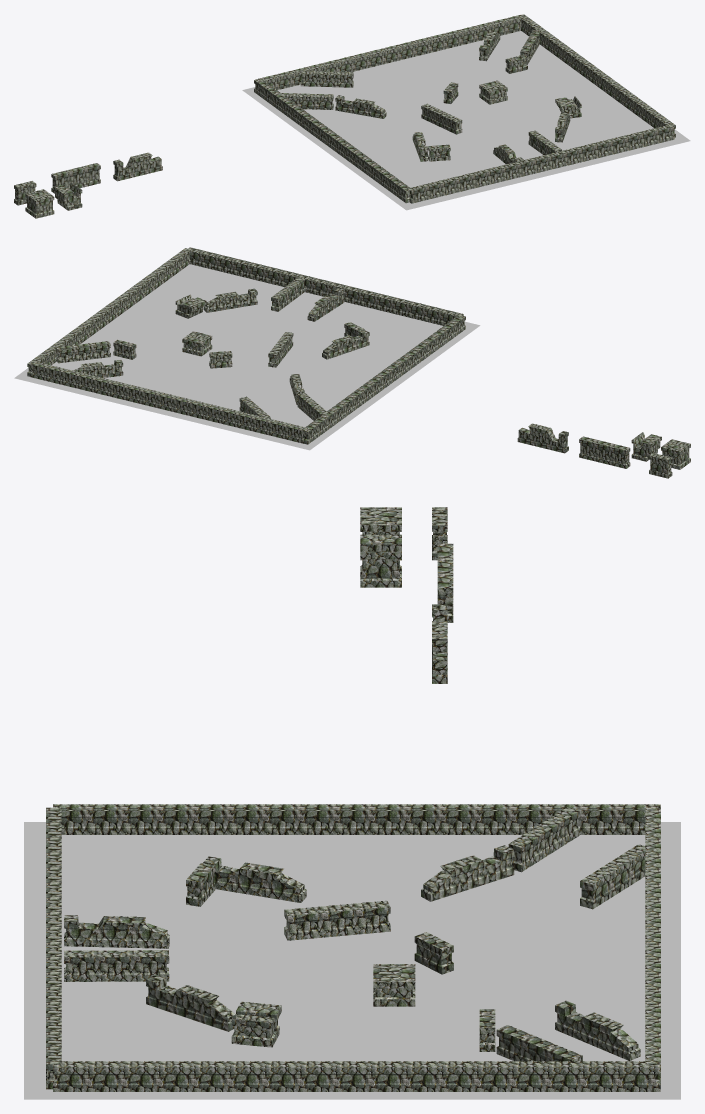
File: Level1.fbx
3 renders of one model, top to bottom at view 1: azimuth 30°, elevation 25°; view 2: azimuth 150°, elevation 25°; view 3: azimuth 270°, elevation 25°, orthographic. The views are drawn at different scales.
Visible parts, largest first — view 1: Plane, Cube.005, Cube.008, Cube.007, Cube.006, Cube.002, Cube.001, Cube.010, Cube.011, Cube.012, Cube.009, Cube.003 (+12 smaller); view 2: Plane, Cube.008, Cube.005, Cube.007, Cube.006, Cube.001, Cube.002, Cube.022, Cube.021, Cube.017, Cube.003, Cube.016 (+10 smaller); view 3: Plane, Cube.006, Cube.007, Cube.005, Cube.008, Cube.012, Cube.016, Cube.015, Cube.011, Cube.017, Cube.021, Cube.014 (+11 smaller).
Boxes of the visible parts, x1=… form: Plane: x1=242, y1=31, x2=690, y2=210; Cube.005: x1=407, y1=124, x2=674, y2=203; Cube.008: x1=258, y1=14, x2=524, y2=90; Cube.007: x1=254, y1=79, x2=410, y2=203; Cube.006: x1=521, y1=14, x2=675, y2=137; Cube.002: x1=113, y1=152, x2=162, y2=181; Cube.001: x1=51, y1=163, x2=100, y2=193; Cube.010: x1=300, y1=71, x2=353, y2=87; Cube.011: x1=335, y1=95, x2=386, y2=118; Cube.012: x1=421, y1=103, x2=462, y2=134; Cube.009: x1=280, y1=93, x2=333, y2=109; Cube.003: x1=25, y1=189, x2=54, y2=218; Plane: x1=14, y1=264, x2=480, y2=450; Cube.008: x1=30, y1=361, x2=307, y2=443; Cube.005: x1=186, y1=247, x2=463, y2=325; Cube.007: x1=303, y1=315, x2=465, y2=444; Cube.006: x1=27, y1=248, x2=189, y2=376; Cube.001: x1=579, y1=436, x2=630, y2=468; Cube.002: x1=517, y1=423, x2=568, y2=453; Cube.022: x1=56, y1=341, x2=110, y2=363; Cube.021: x1=203, y1=288, x2=257, y2=312; Cube.017: x1=322, y1=330, x2=369, y2=359; Cube.003: x1=661, y1=439, x2=690, y2=469; Cube.016: x1=271, y1=277, x2=304, y2=311; Plane: x1=24, y1=822, x2=680, y2=1099; Cube.006: x1=53, y1=1061, x2=660, y2=1091; Cube.007: x1=53, y1=804, x2=660, y2=834; Cube.005: x1=46, y1=807, x2=61, y2=1089; Cube.008: x1=645, y1=807, x2=660, y2=1088; Cube.012: x1=284, y1=900, x2=390, y2=940; Cube.016: x1=64, y1=950, x2=169, y2=981; Cube.015: x1=64, y1=915, x2=169, y2=948; Cube.011: x1=421, y1=845, x2=514, y2=901; Cube.017: x1=203, y1=856, x2=306, y2=902; Cube.021: x1=146, y1=974, x2=235, y2=1031; Cube.014: x1=555, y1=1000, x2=640, y2=1060.
Size of the model in its own units: 6178 by 190 by 3079.
